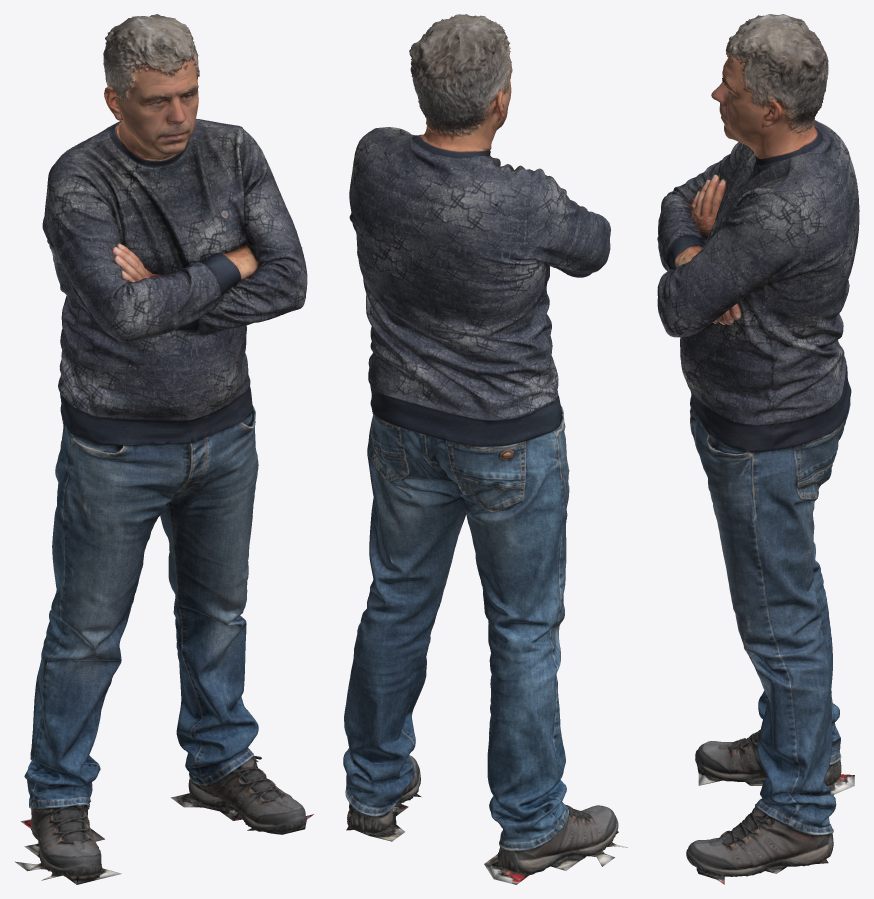
The model's file is hsrd-hsr0040-body-023-web.glb.
3 views of the same model, side by side, from view 1: azimuth 30°, elevation 25°; view 2: azimuth 150°, elevation 25°; view 3: azimuth 270°, elevation 25° (orthographic).
Visible parts, largest first — view 1: hsrd-hsr0040-body-023-full-body; view 2: hsrd-hsr0040-body-023-full-body; view 3: hsrd-hsr0040-body-023-full-body.
Boxes of the visible parts, box(x1,y1,x2,y2) form: hsrd-hsr0040-body-023-full-body: box(15, 14, 313, 884); hsrd-hsr0040-body-023-full-body: box(343, 14, 627, 884); hsrd-hsr0040-body-023-full-body: box(657, 14, 859, 884).
Bounding box in the file's own units: 0.6196 × 1.75 × 0.401.
1 material, 1 textured.
